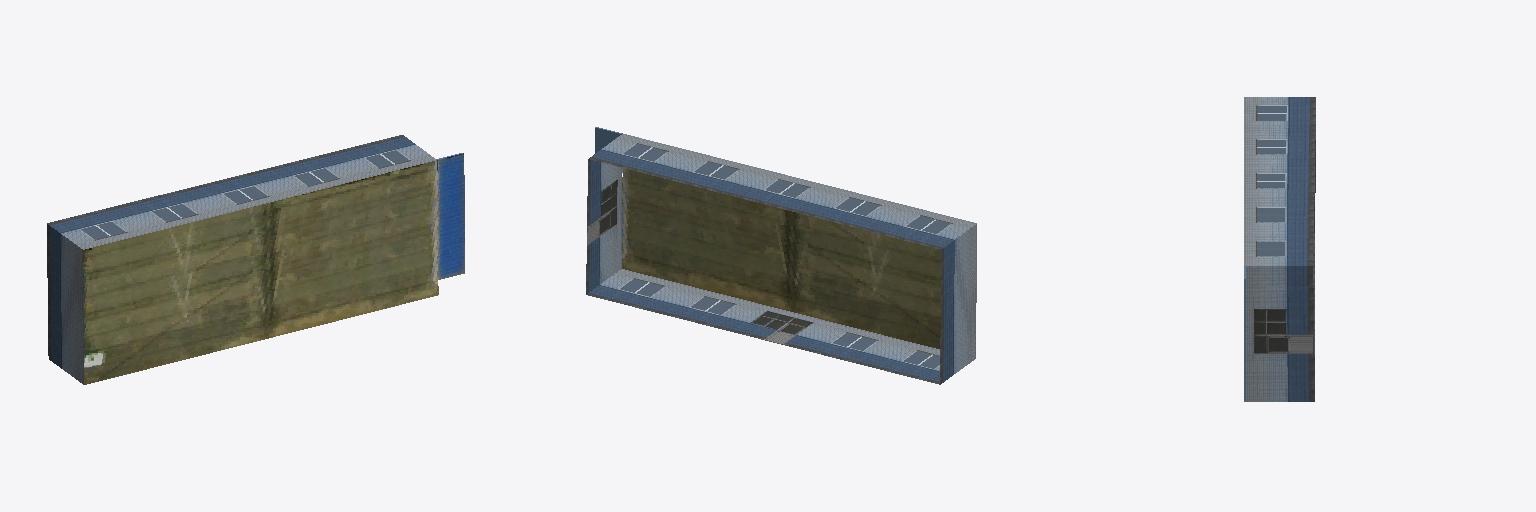
The picture shows the model from 3 angles: view 1: azimuth 30°, elevation 25°; view 2: azimuth 150°, elevation 25°; view 3: azimuth 270°, elevation 25°; orthographic projection.
Visible parts, largest first — view 1: Group_MatrixTransform_i96048_Geometry_5, Group_MatrixTransform_i96048_Geometry_1, Group_MatrixTransform_i96048_Geometry_2, Group_MatrixTransform_i96048_Geometry_4; view 2: Group_MatrixTransform_i96048_Geometry_5, Group_MatrixTransform_i96048_Geometry_1, Group_MatrixTransform_i96048_Geometry_2, Group_MatrixTransform_i96048_Geometry_0; view 3: Group_MatrixTransform_i96048_Geometry_1, Group_MatrixTransform_i96048_Geometry_2, Group_MatrixTransform_i96048_Geometry_0.
Part boxes in pixels (x1,y1,x2,y2): Group_MatrixTransform_i96048_Geometry_5: (83,160,438,384); Group_MatrixTransform_i96048_Geometry_1: (47,135,436,249); Group_MatrixTransform_i96048_Geometry_2: (47,170,437,384); Group_MatrixTransform_i96048_Geometry_4: (438,153,464,279); Group_MatrixTransform_i96048_Geometry_5: (622,168,940,348); Group_MatrixTransform_i96048_Geometry_1: (587,134,976,384); Group_MatrixTransform_i96048_Geometry_2: (586,159,976,384); Group_MatrixTransform_i96048_Geometry_0: (587,168,832,348); Group_MatrixTransform_i96048_Geometry_1: (1244,97,1315,354); Group_MatrixTransform_i96048_Geometry_2: (1244,140,1315,401); Group_MatrixTransform_i96048_Geometry_0: (1246,300,1314,367).
Size of the model in its own units: 22.69 by 7.91 by 3.73.
Materials: 6 (6 with a texture image).